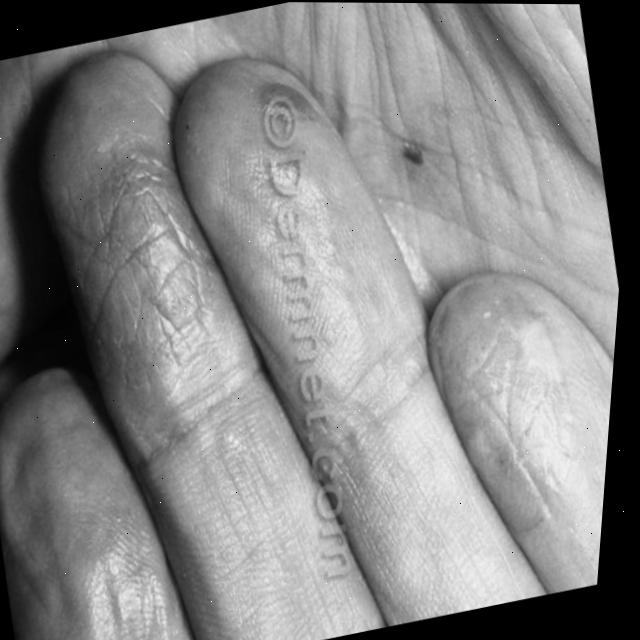Eczema: (87, 155, 235, 396)
